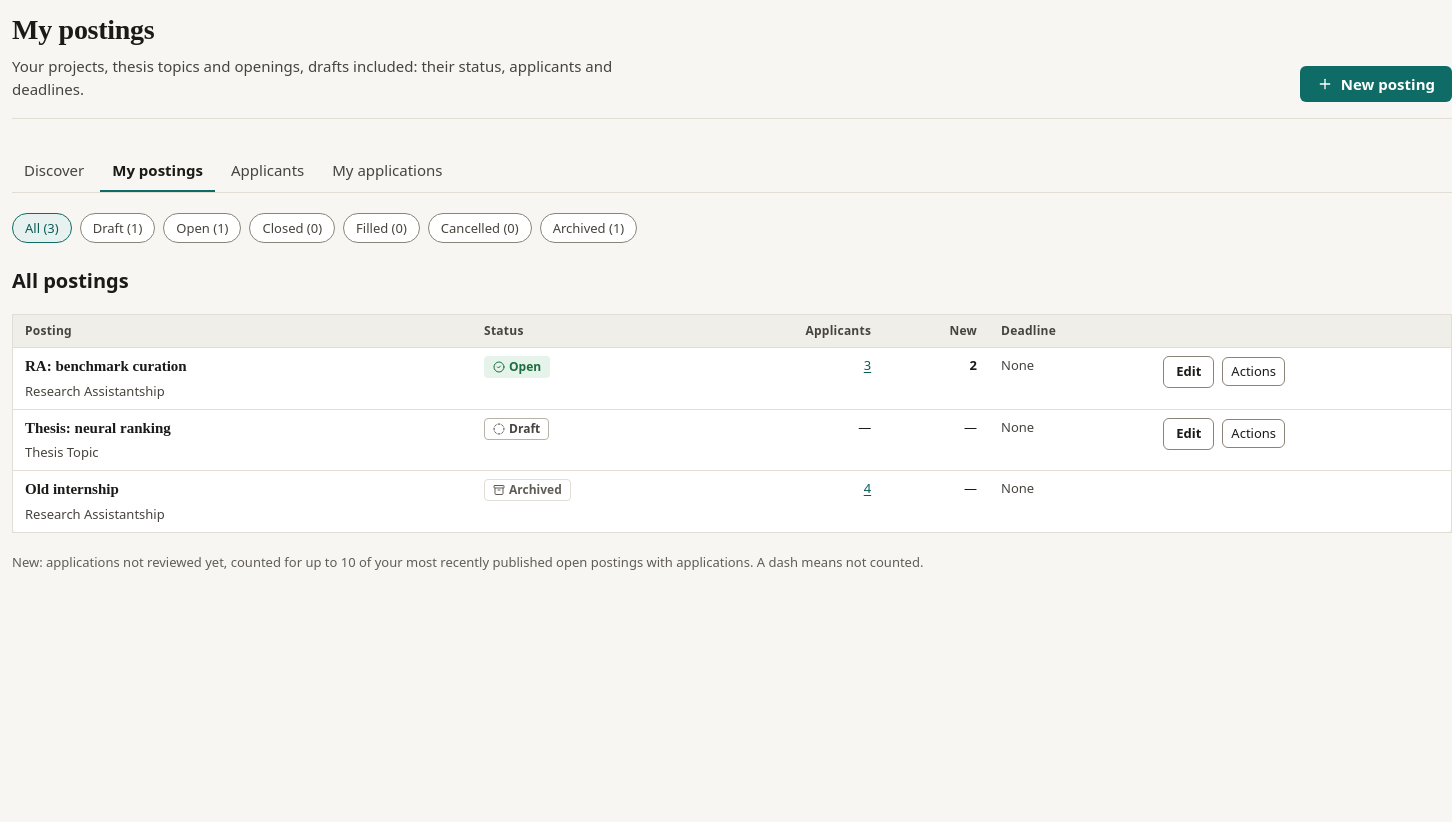
Test: My postings › a refused change says so and leaves the posting as it was
Click the button with aria-label "Actions for RA: benchmark curation": (1254, 372) [1222,357,1285,386]
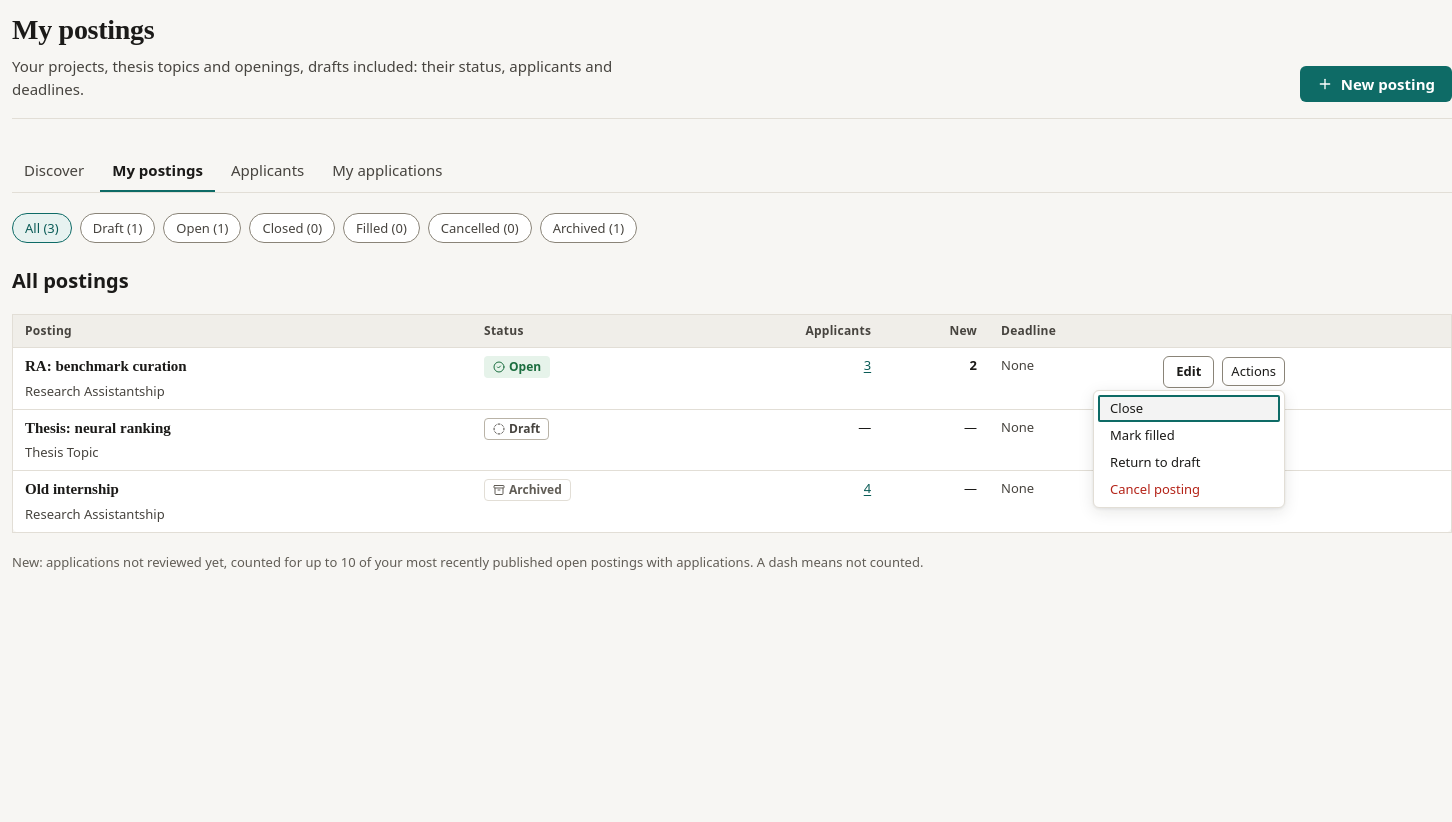
Click the menu item "Close": (1189, 408) [1098,395,1280,422]
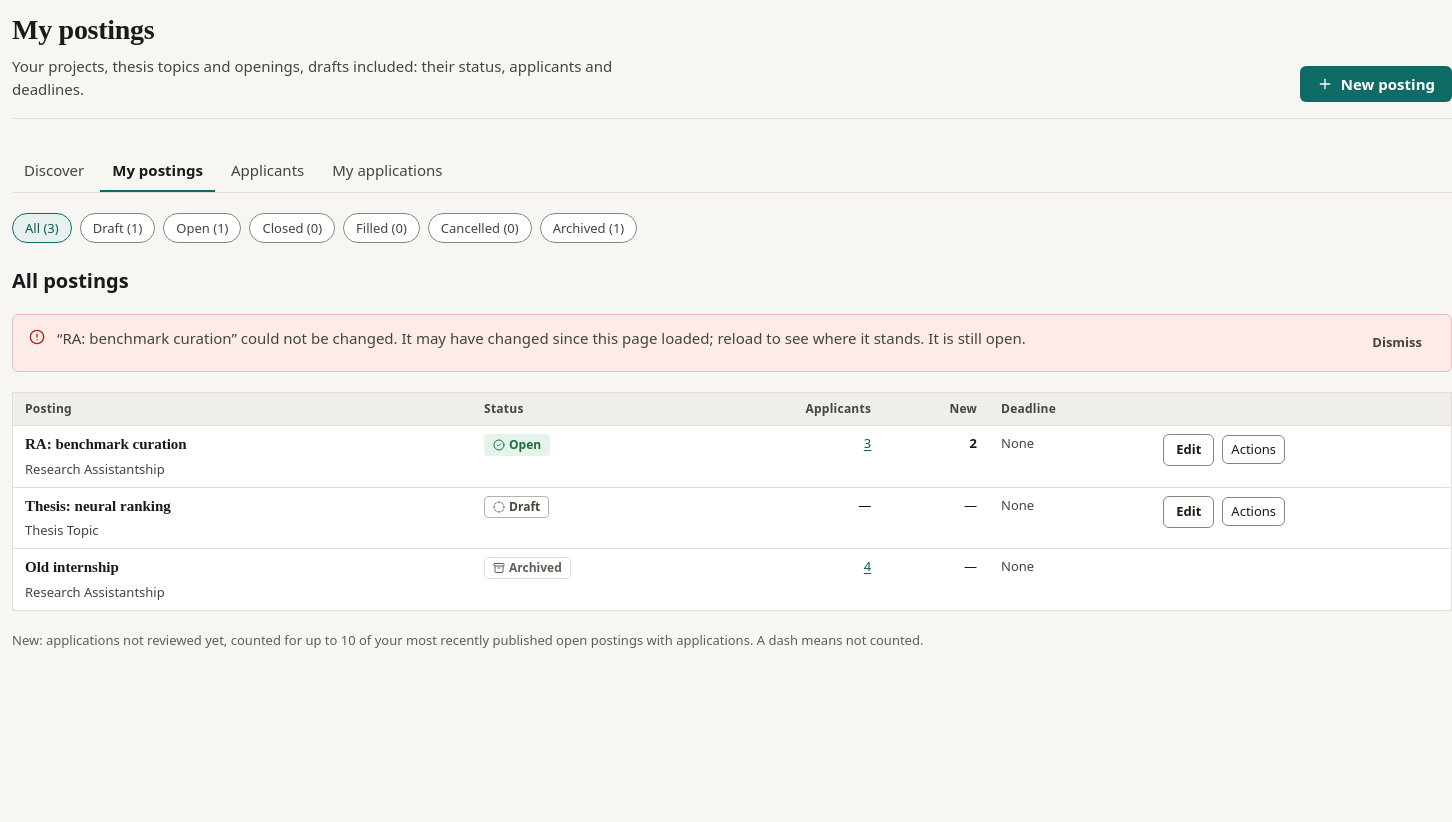
Expected: the message does not show "OPEN to CLOSED", [12,314,1451,372]
Now the message shows "“RA: benchmark curation” could not be changed.", box [57,328,924,348]
Now the message shows "It is still open.", box [12,314,1451,372]
